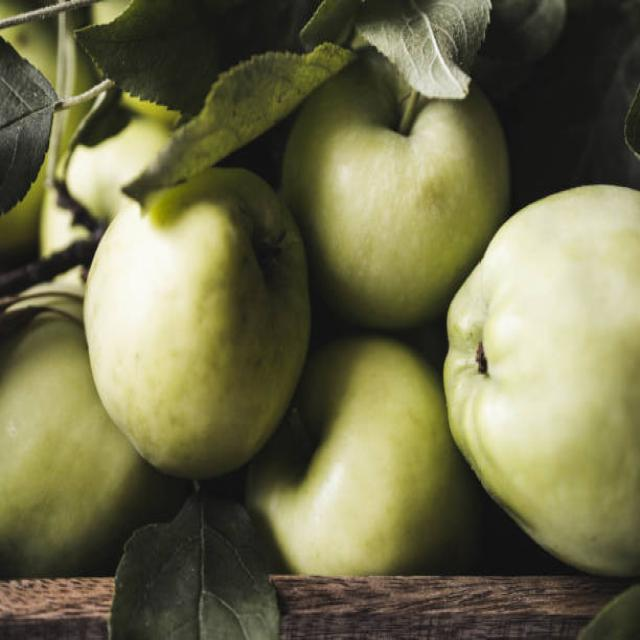Unripe: (441, 180, 640, 580), (83, 165, 309, 475)
